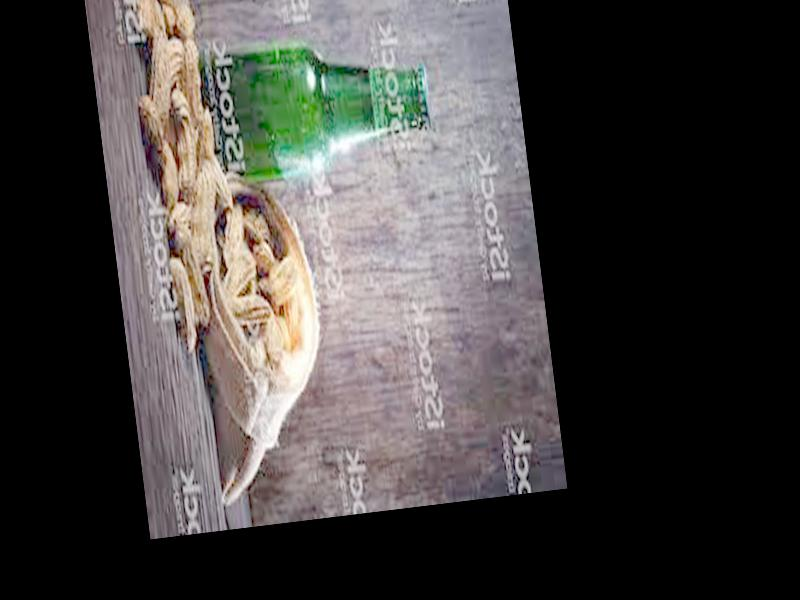Beer: (180, 27, 439, 194)
